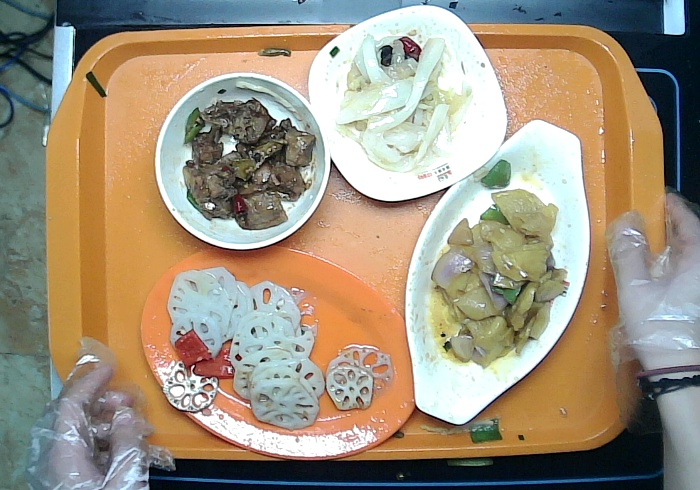NLDX-Bai_Se_Xiao_Fang_Die: (306, 4, 508, 203)
NLDX-Fan_Wan: (153, 73, 330, 251)
NLDX-Ju_Se_Pan: (138, 243, 421, 460)
NLDX-Yu_Pan: (402, 118, 591, 426)
